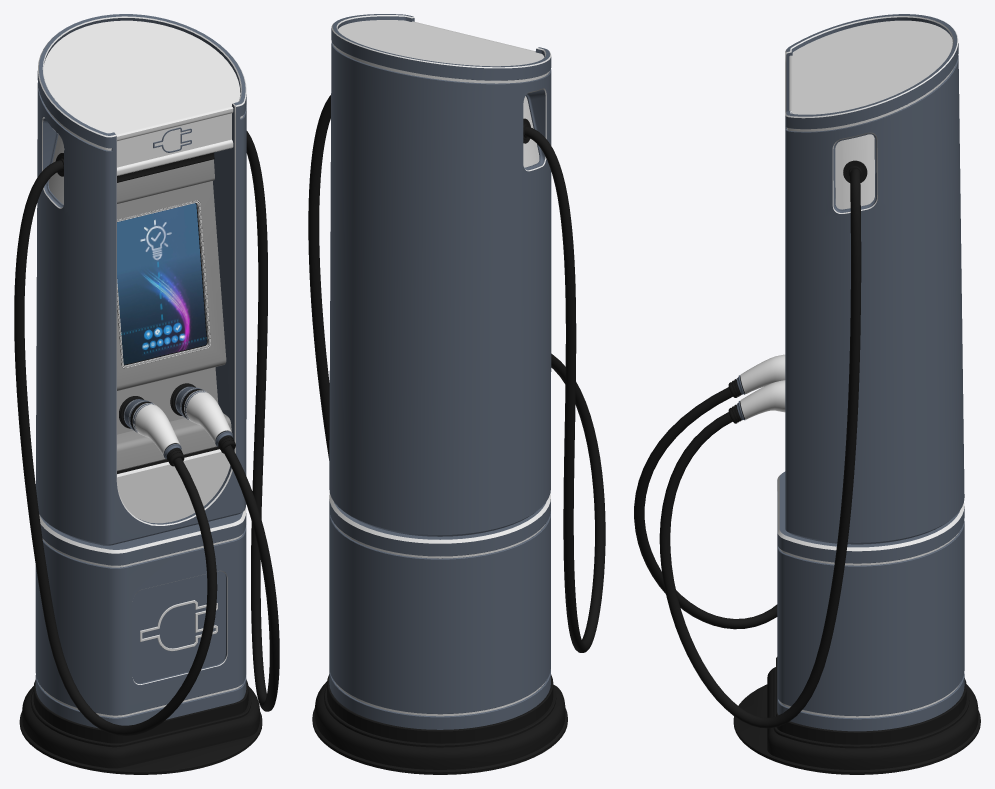
The model's file is auto-laadpaal.glb.
The picture shows the model from 3 angles, left to right: view 1: azimuth 30°, elevation 25°; view 2: azimuth 150°, elevation 25°; view 3: azimuth 270°, elevation 25°; orthographic projection. The views are drawn at different scales.
Visible parts, largest first — view 1: Charging Station, BezierCurve; view 2: Charging Station, BezierCurve; view 3: Charging Station, BezierCurve.
Part boxes in pixels (<box>): Charging Station: <box>19,14,262,774</box>; BezierCurve: <box>14,131,279,735</box>; Charging Station: <box>312,14,567,774</box>; BezierCurve: <box>308,95,605,652</box>; Charging Station: <box>728,14,980,774</box>; BezierCurve: <box>634,168,861,728</box>.
Bounding box in the file's own units: 0.7361 × 1.86 × 0.8588.
Materials: 5 (1 with a texture image).
